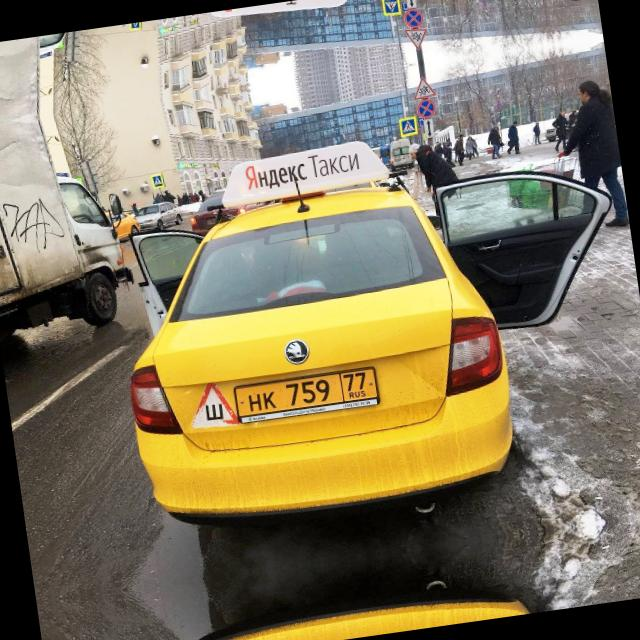taxi: (228, 358, 388, 432)
